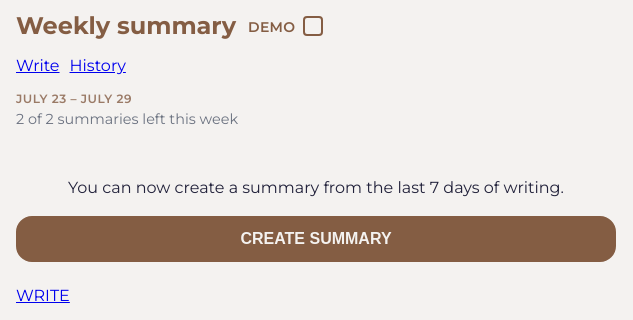
Test: JournalSummary page states › retries generate timeouts then shows try later
Click the button "CREATE SUMMARY". click: point(316, 239)
box: left=16, top=216, right=616, bottom=262
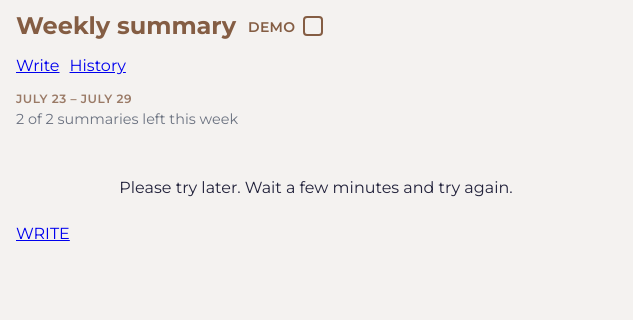
Expected: the text "Please try later. Wait a few minutes and try again." is shown, left=119, top=178, right=513, bottom=197
